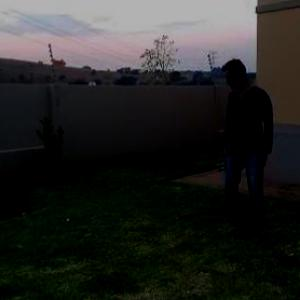follow: (216, 54, 278, 241)
